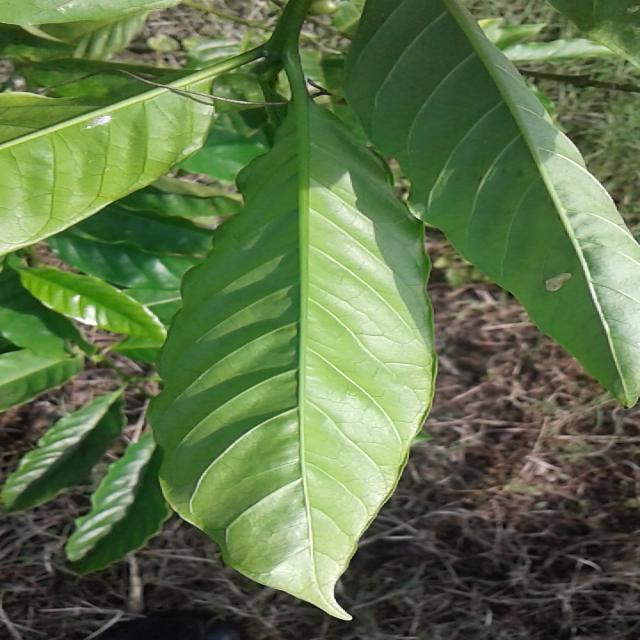Sanas: (67, 88, 436, 624)
